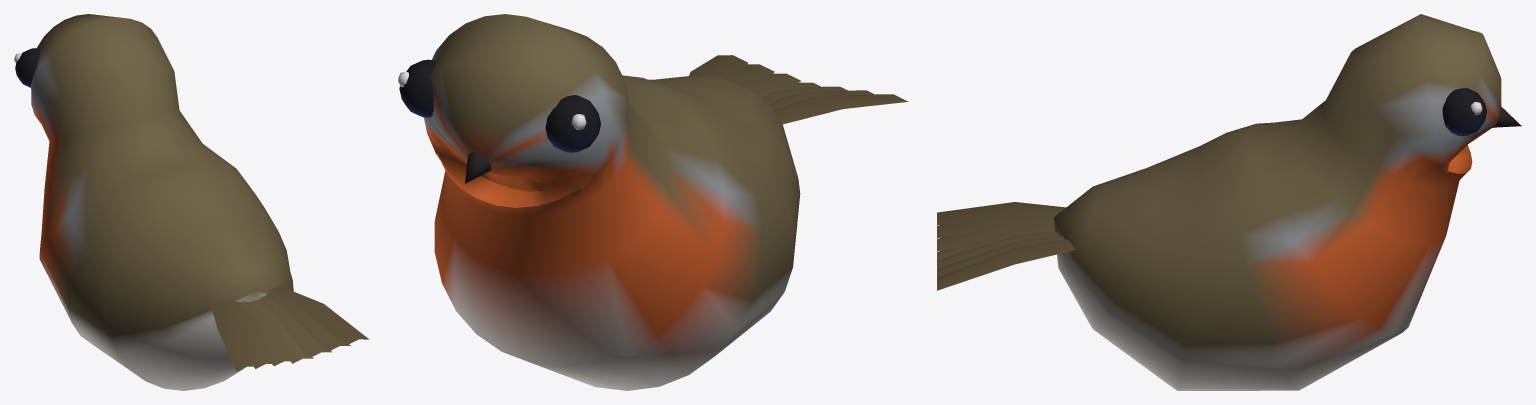
Rendered from Robin_Body.fbx.
3 renders of one model, left to right at view 1: azimuth 30°, elevation 25°; view 2: azimuth 150°, elevation 25°; view 3: azimuth 270°, elevation 25°, orthographic. The views are drawn at different scales.
Parts seen in each view (by area): view 1: Robin_Body; view 2: Robin_Body; view 3: Robin_Body.
Part boxes in pixels (left/top/right/bottom): Robin_Body: left=14, top=14, right=369, bottom=390; Robin_Body: left=398, top=14, right=908, bottom=390; Robin_Body: left=937, top=14, right=1521, bottom=390.
Bounding box in the file's own units: 2.08 × 2.97 × 4.42.
